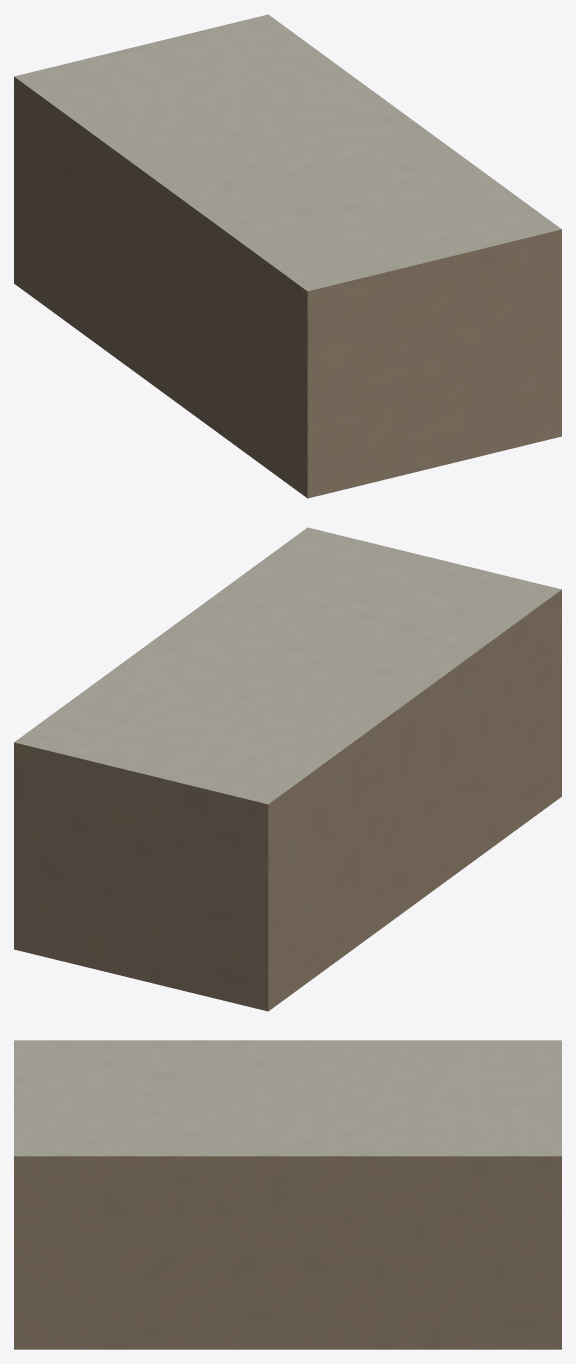
Rendered from set_roof_outside_a07.fbx.
3 renders of one model, top to bottom at view 1: azimuth 30°, elevation 25°; view 2: azimuth 150°, elevation 25°; view 3: azimuth 270°, elevation 25°, orthographic. The views are drawn at different scales.
Visible parts, largest first — view 1: set_roof_outside_a07; view 2: set_roof_outside_a07; view 3: set_roof_outside_a07.
Part boxes in pixels (x1=…): set_roof_outside_a07: x1=14, y1=14, x2=561, y2=498; set_roof_outside_a07: x1=14, y1=527, x2=561, y2=1011; set_roof_outside_a07: x1=14, y1=1040, x2=561, y2=1349.
Size of the model in its own units: 50 by 38.91 by 100.
